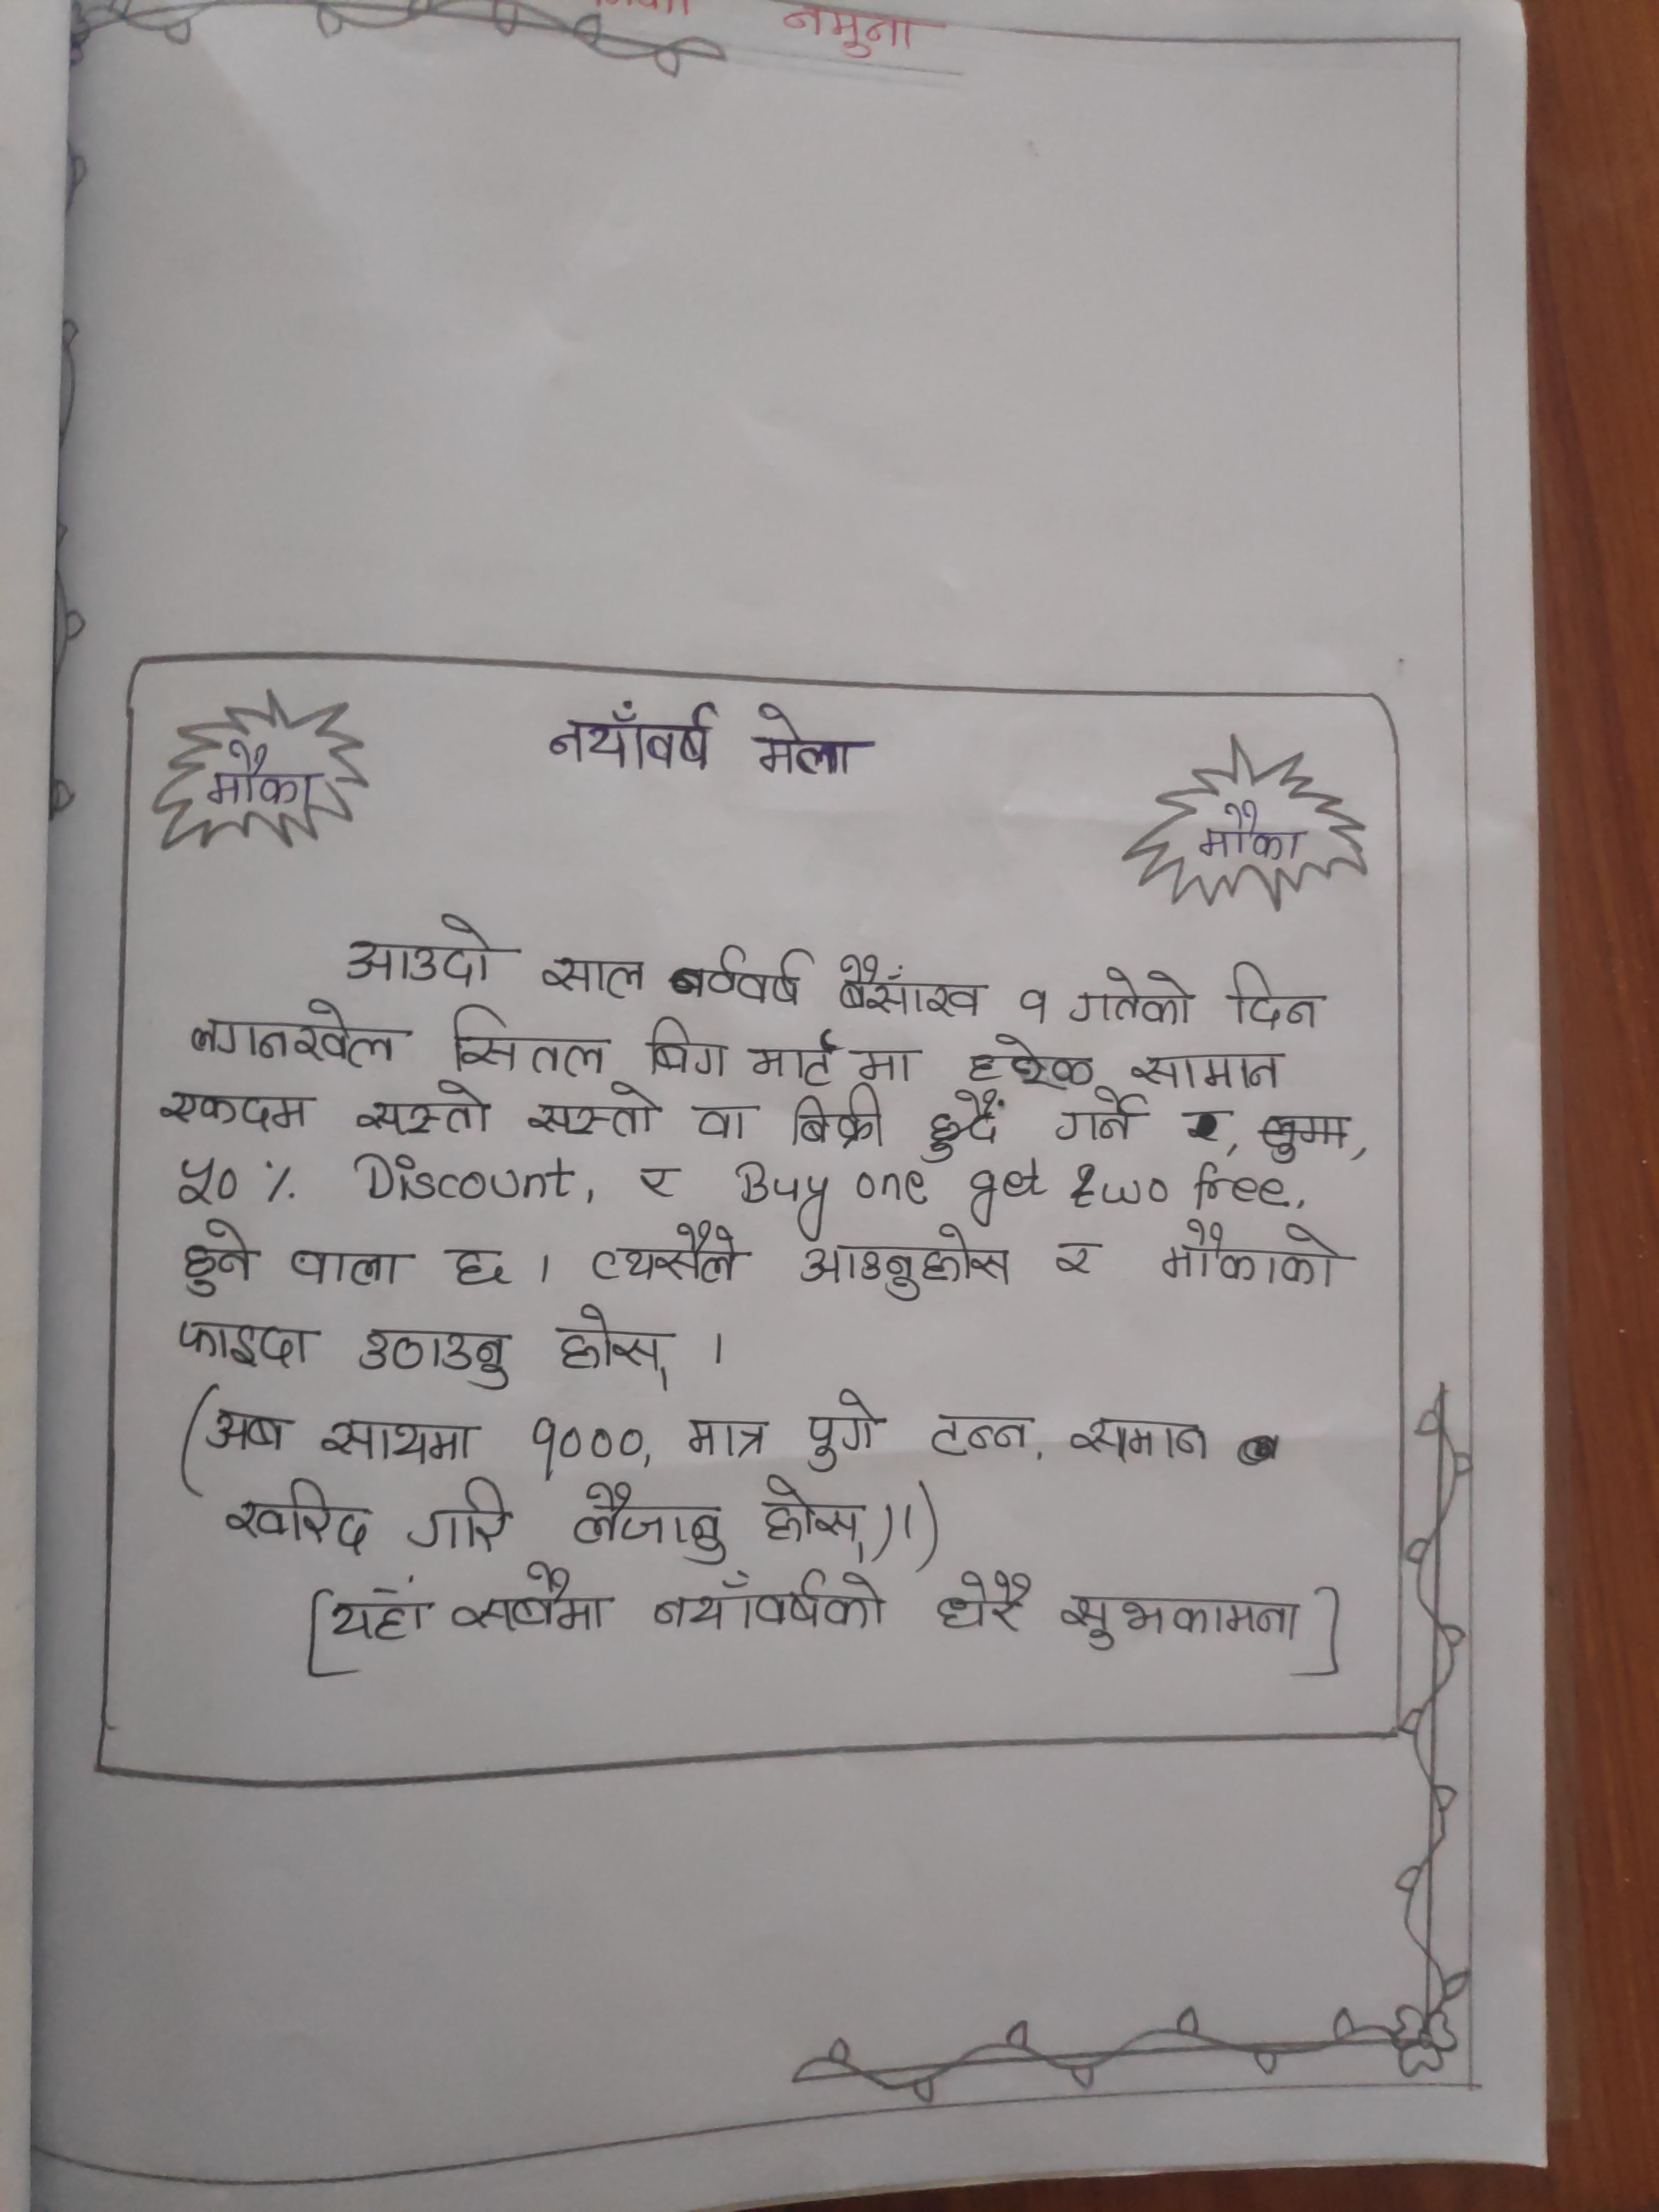text: (795, 1223, 1021, 1306), (1049, 1585, 1310, 1649), (183, 1001, 408, 1073), (1152, 1214, 1347, 1291), (338, 907, 509, 993), (652, 1569, 889, 1630), (565, 1484, 730, 1569), (443, 998, 615, 1080), (221, 1479, 380, 1566), (542, 704, 721, 772), (586, 1217, 751, 1291), (551, 1299, 678, 1392), (354, 1320, 518, 1392), (448, 1568, 610, 1639), (831, 953, 985, 1026), (746, 700, 864, 786), (1066, 1407, 1218, 1472), (167, 1312, 322, 1372), (317, 1414, 486, 1470), (322, 1576, 437, 1656), (157, 1080, 319, 1136), (403, 1479, 523, 1554), (347, 1078, 493, 1139), (1063, 965, 1197, 1031), (756, 1475, 870, 1552), (800, 1385, 892, 1477), (195, 745, 321, 813), (929, 1566, 1042, 1641), (1126, 1038, 1279, 1090), (702, 935, 812, 1005), (523, 1409, 652, 1468), (1195, 803, 1310, 869), (1220, 956, 1321, 1031), (519, 1089, 664, 1141), (636, 1012, 739, 1085), (1249, 1104, 1370, 1165), (781, 12, 927, 61), (918, 1092, 1014, 1165), (784, 1089, 892, 1153), (1053, 1085, 1150, 1155), (953, 1042, 1094, 1089), (537, 944, 655, 1000), (179, 1217, 258, 1299), (922, 1407, 1037, 1460), (199, 1406, 296, 1465), (282, 1244, 410, 1285), (169, 1148, 251, 1211), (749, 1042, 843, 1090), (683, 1414, 782, 1460), (443, 1247, 519, 1294), (852, 1038, 922, 1089), (1054, 1231, 1117, 1284), (690, 1103, 758, 1146), (1014, 979, 1061, 1033)
